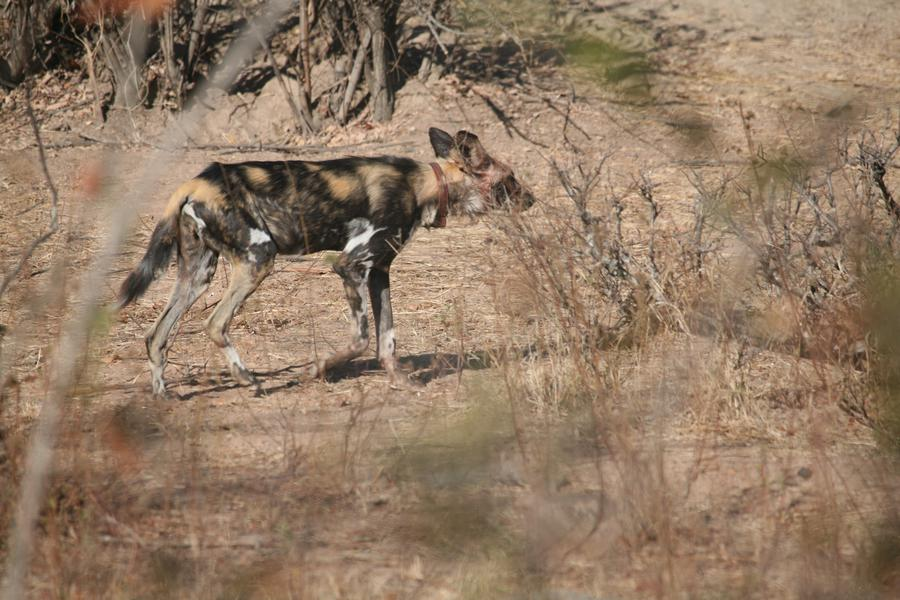wilddog: (170, 131, 518, 304)
